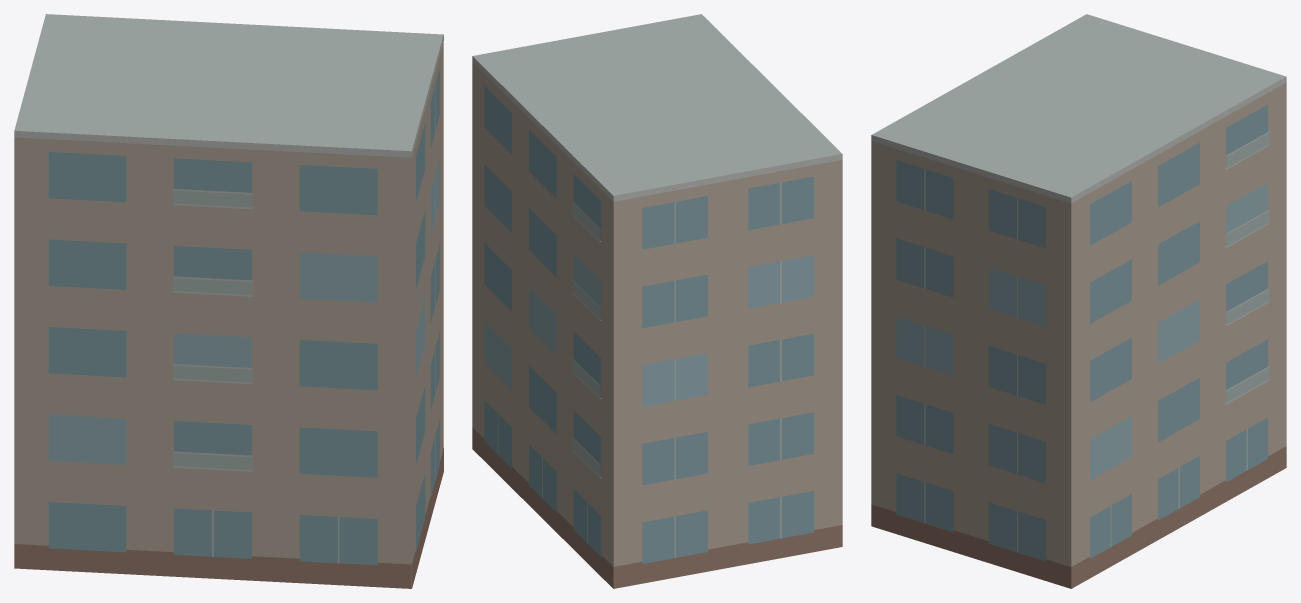
Rendered from survey-upis-32892564.glb.
The picture shows the model from 3 angles, left to right: view 1: azimuth 30°, elevation 25°; view 2: azimuth 150°, elevation 25°; view 3: azimuth 270°, elevation 25°; orthographic projection. The views are drawn at different scales.
Parts seen in each view (by area): view 1: survey-upis-32892564.tmp; view 2: survey-upis-32892564.tmp; view 3: survey-upis-32892564.tmp.
Boxes of the visible parts, bbox=[...] form: survey-upis-32892564.tmp: bbox=[14, 14, 443, 588]; survey-upis-32892564.tmp: bbox=[472, 14, 842, 588]; survey-upis-32892564.tmp: bbox=[871, 14, 1286, 588].
Size of the model in its own units: 16.31 by 16.2 by 15.58.
